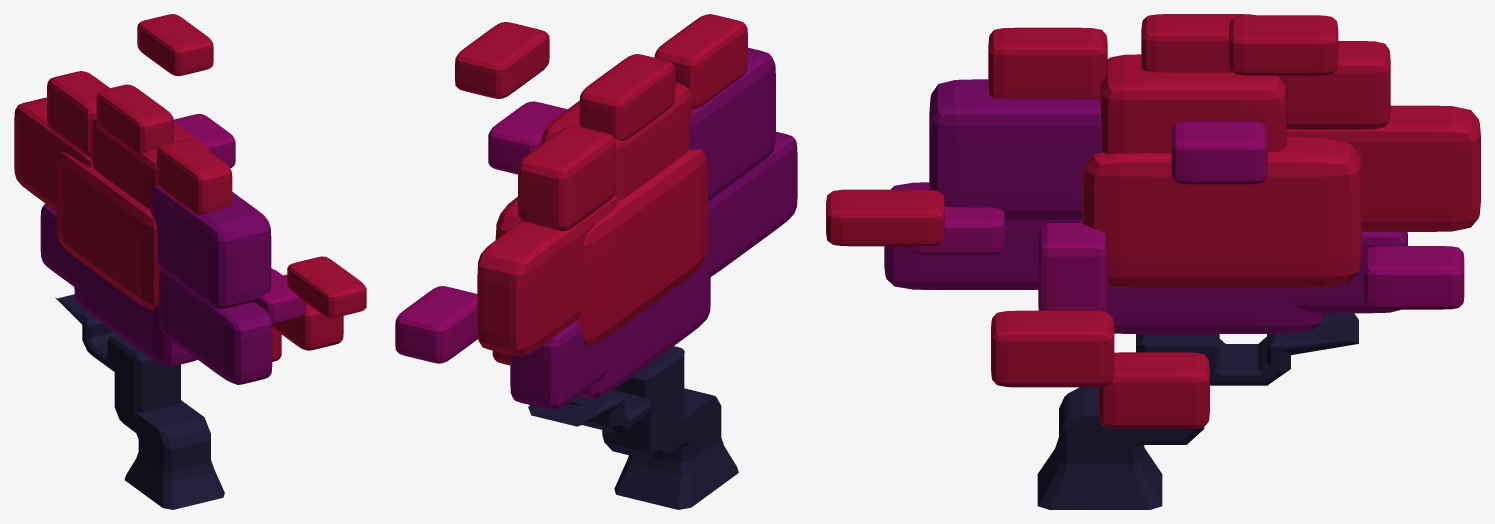
Rendered from man.glb.
3 views of the same model, side by side, from view 1: azimuth 30°, elevation 25°; view 2: azimuth 150°, elevation 25°; view 3: azimuth 270°, elevation 25° (orthographic). The views are drawn at different scales.
Parts seen in each view (by area): view 1: TreeLeaves2, Tree, TreeLeaves1; view 2: TreeLeaves2, Tree, TreeLeaves1; view 3: TreeLeaves2, TreeLeaves1, Tree.
Boxes of the visible parts, x1=… form: TreeLeaves2: x1=14, y1=71, x2=272, y2=384; Tree: x1=55, y1=294, x2=224, y2=509; TreeLeaves1: x1=137, y1=14, x2=366, y2=361; TreeLeaves2: x1=477, y1=14, x2=797, y2=409; Tree: x1=528, y1=346, x2=738, y2=509; TreeLeaves1: x1=395, y1=22, x2=566, y2=365; TreeLeaves2: x1=884, y1=14, x2=1480, y2=333; TreeLeaves1: x1=826, y1=15, x2=1464, y2=428; Tree: x1=1037, y1=313, x2=1358, y2=509.
Size of the model in its own units: 1.8 by 4.13 by 4.81.
